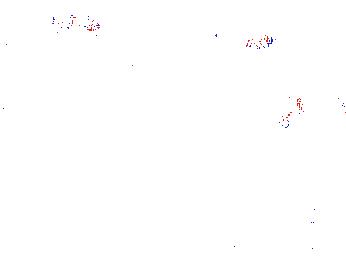X-ray fish: (118, 51, 149, 75)
red belly glassfish: (212, 32, 276, 51)
redtail glassfish: (50, 7, 104, 33), (276, 93, 303, 129)
